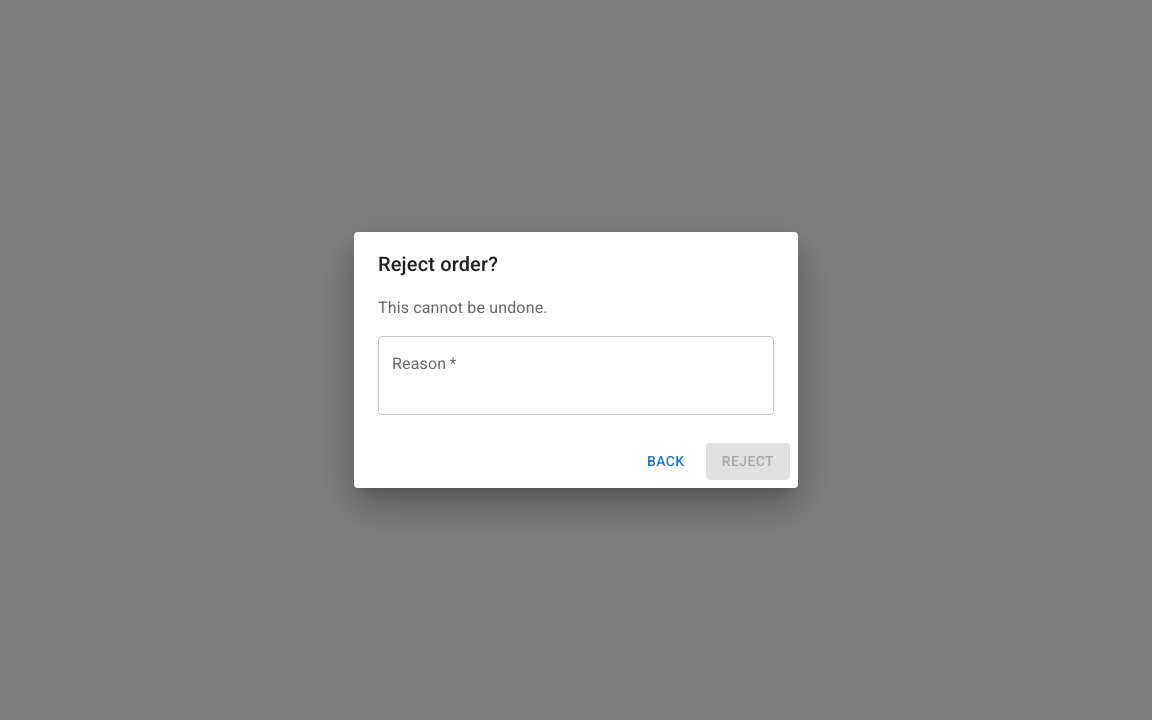
Scenario: ActionDialog › keeps Confirm disabled until a required reason is typed, then passes the trimmed text
Later steps or results of the test are not shown.
Expected: the button "Reject" is disabled, [706, 443, 790, 480]
In the text box labelled "Reason *": (576, 376) [392, 353, 760, 399], type "  Out of stock "
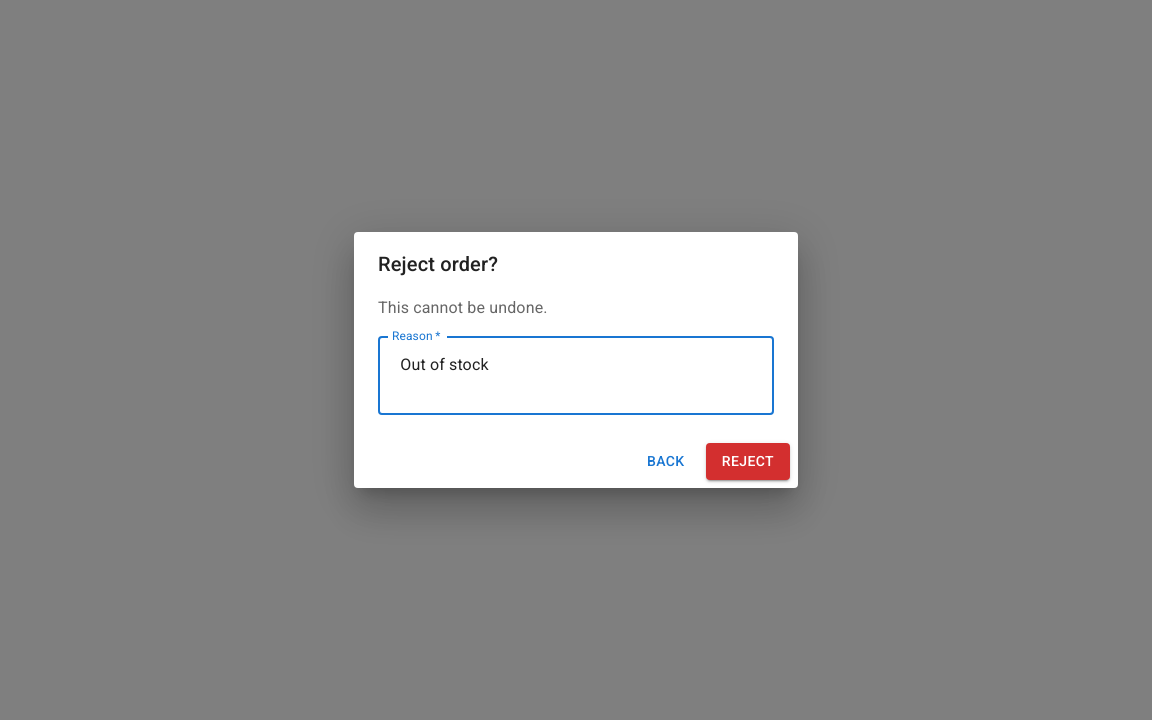
Result: the button "Reject" is enabled at [706, 443, 790, 480]
